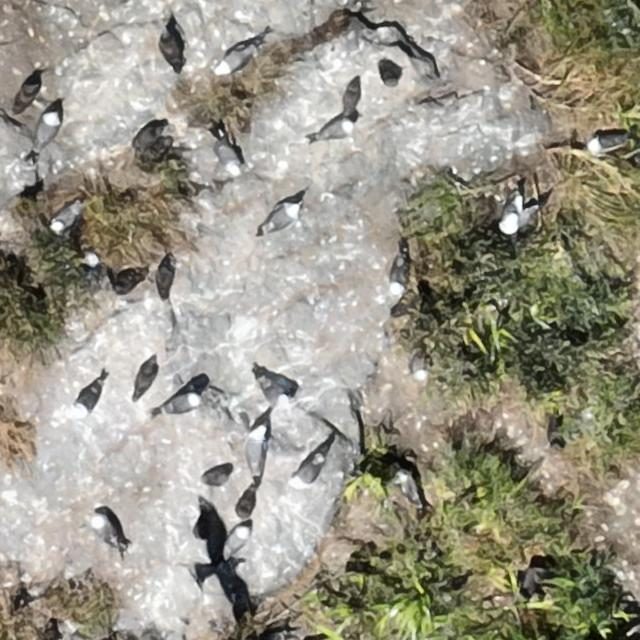umineko: (244, 425, 268, 484), (89, 512, 121, 554), (260, 370, 292, 412), (498, 200, 525, 233), (295, 457, 322, 487), (266, 204, 296, 231), (51, 202, 79, 230), (38, 112, 59, 146), (77, 385, 101, 414), (391, 256, 408, 294), (165, 394, 197, 413), (220, 48, 248, 69), (588, 134, 622, 151), (399, 474, 418, 504), (322, 120, 353, 138), (229, 528, 247, 551), (412, 354, 426, 381), (83, 251, 100, 267), (262, 630, 286, 640)
